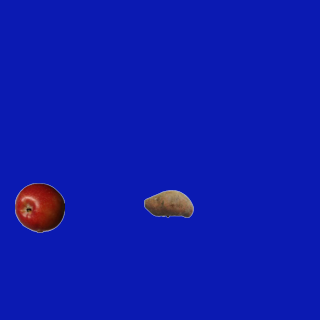Apple Braeburn: (14, 182, 64, 232)
Potato Sweet: (143, 178, 193, 228)
